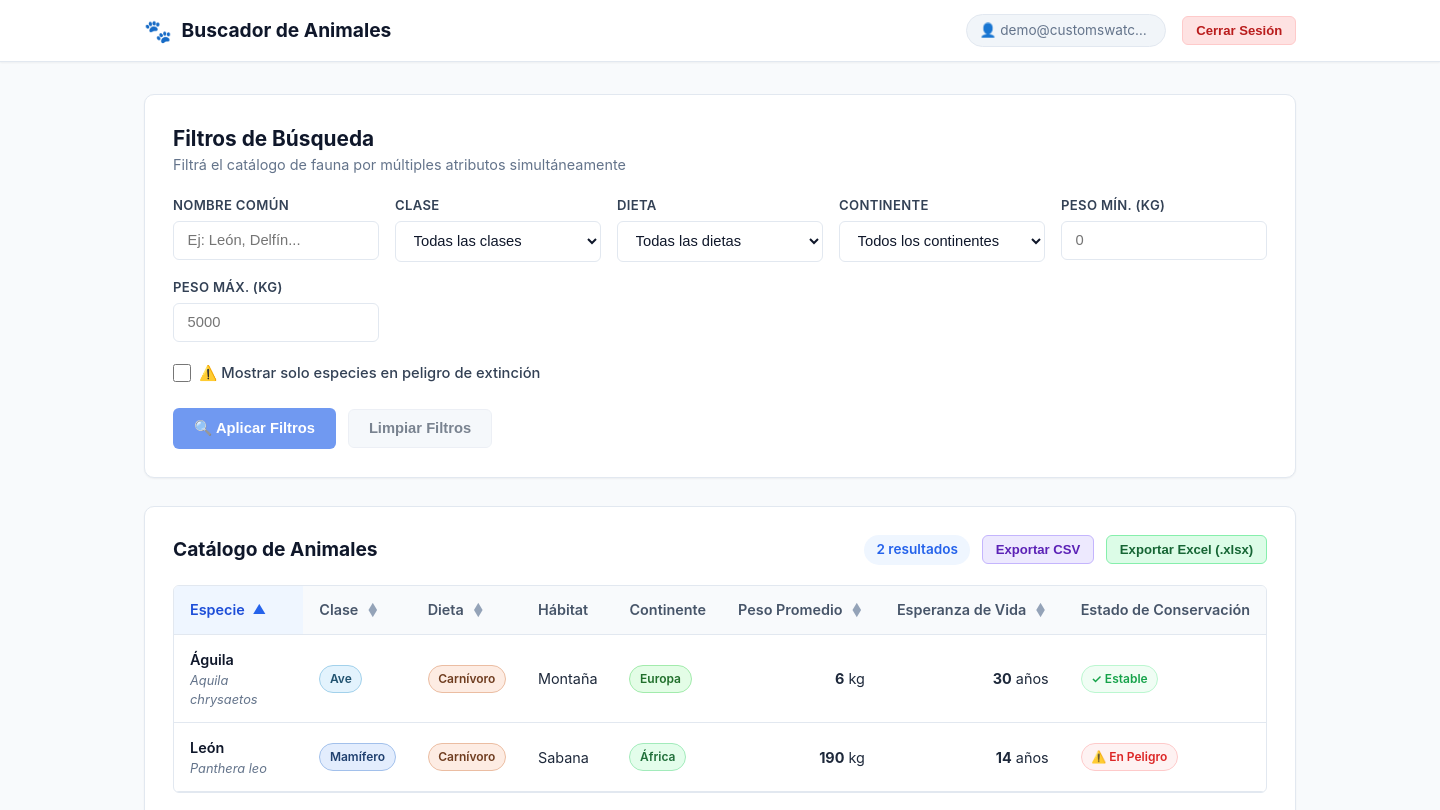
Scenario: buscador protegido › ordena columnas en ambas direcciones
Expected: the text "León" is shown, [190,739,224,756]
Expected: the 3rd element with class "sort-pair" reads "▲ ▼", [852,604,862,616]
Click the button "Peso Promedio ▲ ▼" at [802, 610], box [738,599,865,621]
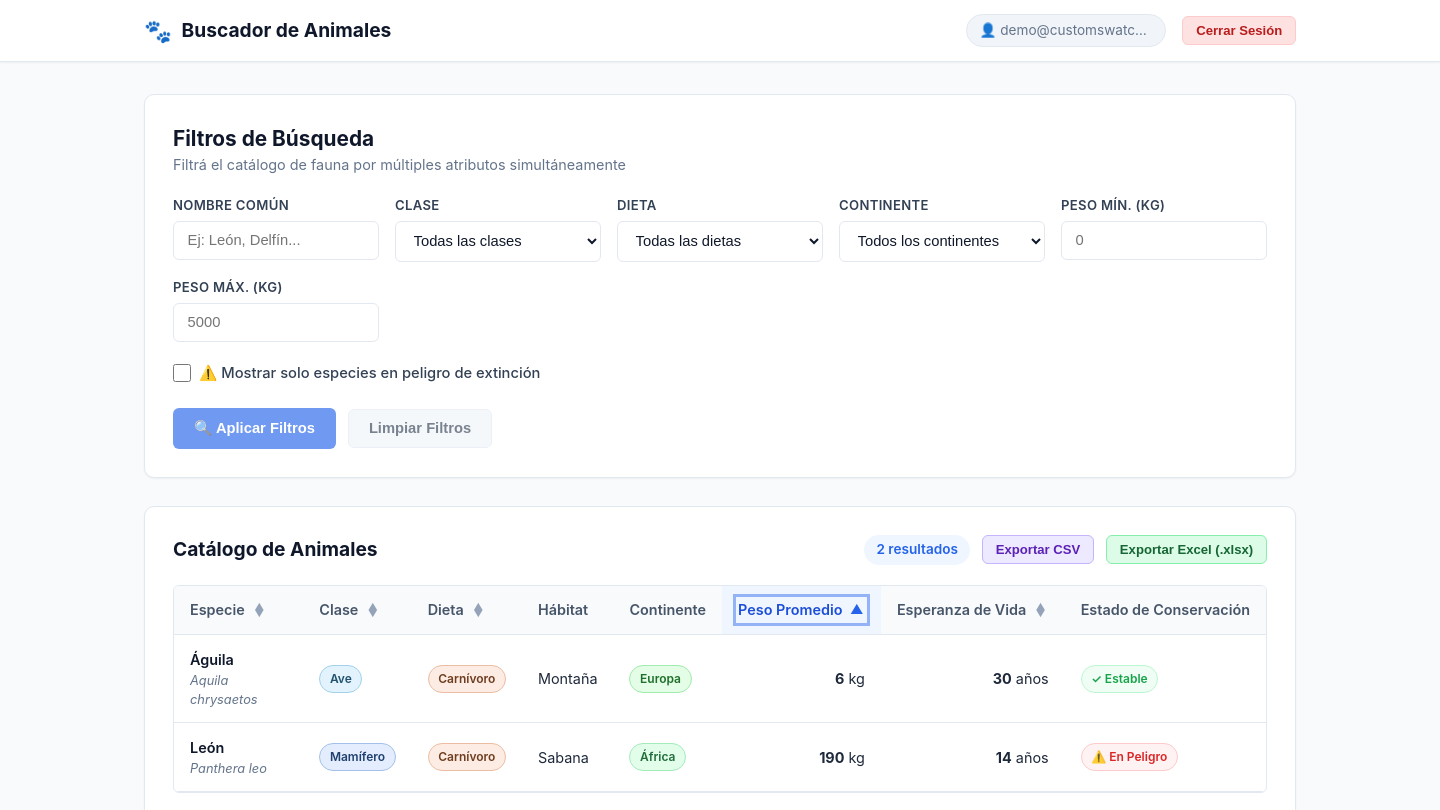
Expected: the button with aria-label "peso promedio: ordenar descendente" is shown
Click the button "Peso Promedio ▲" at [802, 610], box [738,599,865,621]
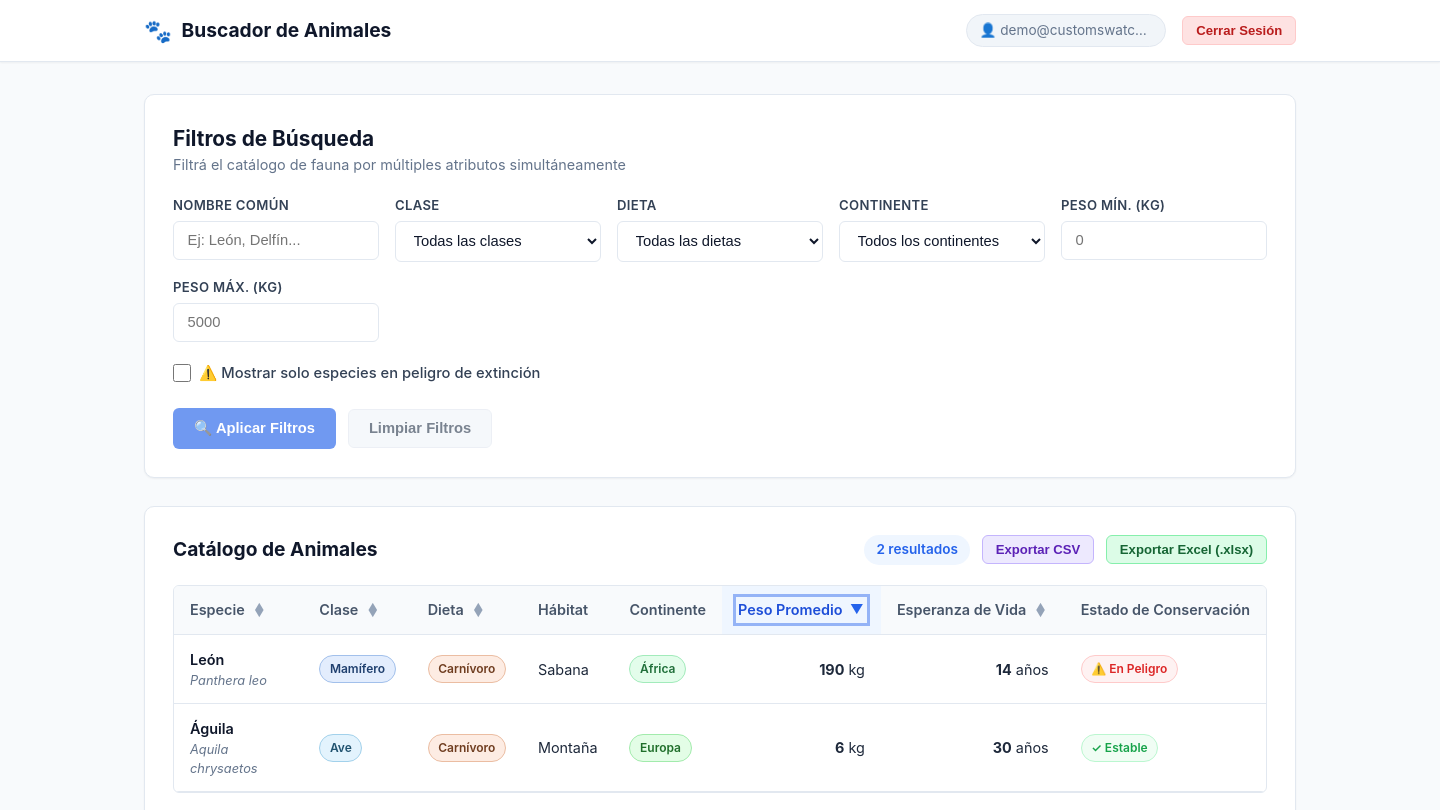
Expected: the 4th text "▼" is shown, [850,601,864,617]
